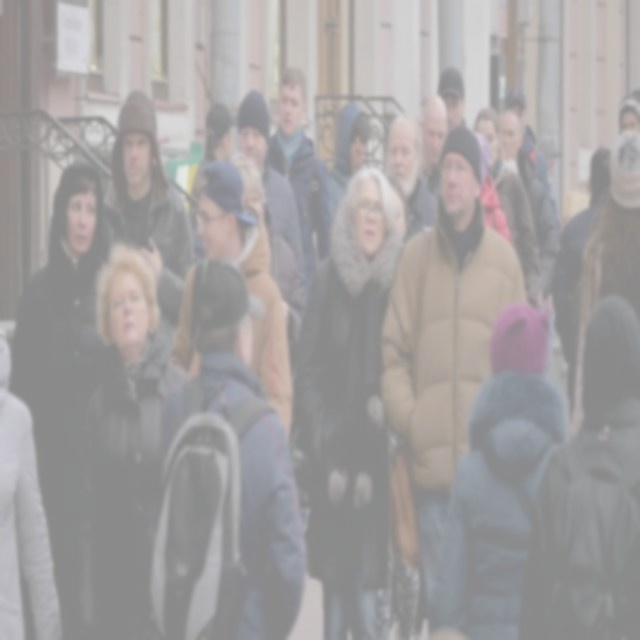pessoa: (379, 121, 529, 615), (140, 256, 308, 639), (294, 166, 404, 638), (8, 158, 115, 638), (430, 305, 570, 639), (80, 244, 194, 639), (516, 293, 640, 639), (170, 157, 292, 451), (0, 256, 74, 639), (99, 89, 194, 332), (568, 128, 640, 440), (226, 152, 304, 398), (550, 145, 612, 427), (266, 63, 336, 310), (236, 88, 310, 311), (471, 105, 542, 314), (496, 109, 560, 316), (503, 88, 561, 256), (386, 113, 438, 243), (189, 102, 234, 234), (471, 129, 512, 247), (326, 102, 372, 206), (418, 90, 450, 202), (380, 170, 414, 258), (436, 65, 468, 134), (616, 90, 640, 138)
